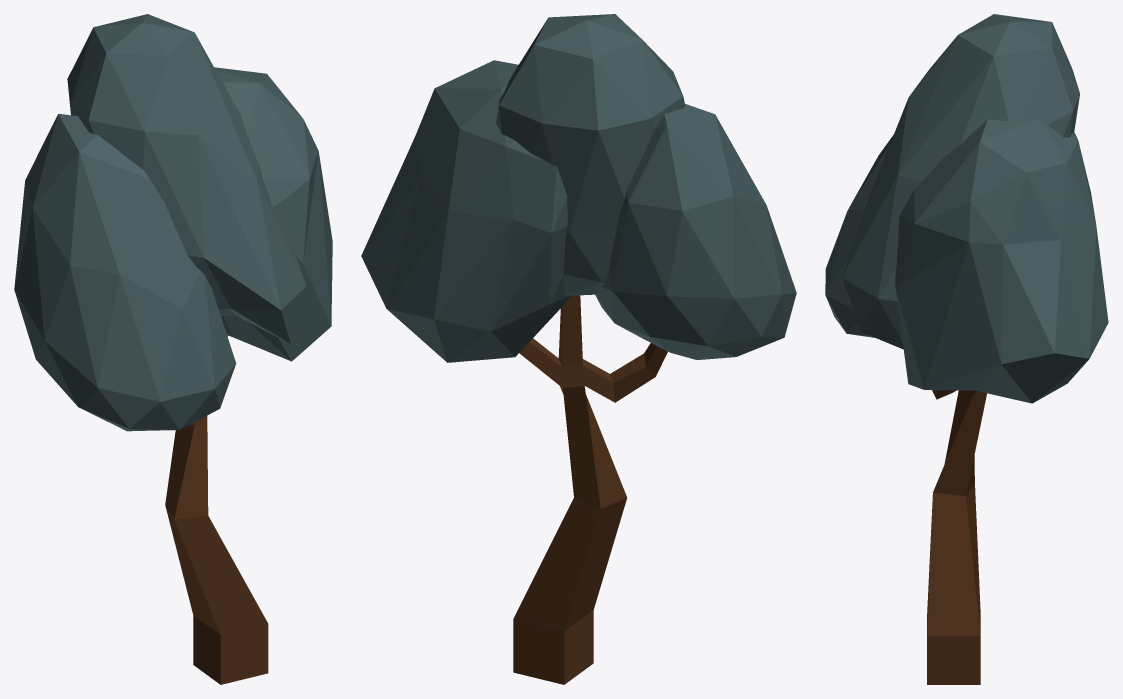
Rendered from GrasslandsTreeType4.fbx.
The picture shows the model from 3 angles, left to right: view 1: azimuth 30°, elevation 25°; view 2: azimuth 150°, elevation 25°; view 3: azimuth 270°, elevation 25°; orthographic projection. The views are drawn at different scales.
Parts seen in each view (by area): view 1: GrasslandsTreeType4; view 2: GrasslandsTreeType4; view 3: GrasslandsTreeType4.
Part boxes in pixels (x1,y1,x2,y2): GrasslandsTreeType4: (14,14,332,684); GrasslandsTreeType4: (361,14,796,684); GrasslandsTreeType4: (825,14,1108,684).
Bounding box in the file's own units: 3.72 × 6.94 × 2.86.
